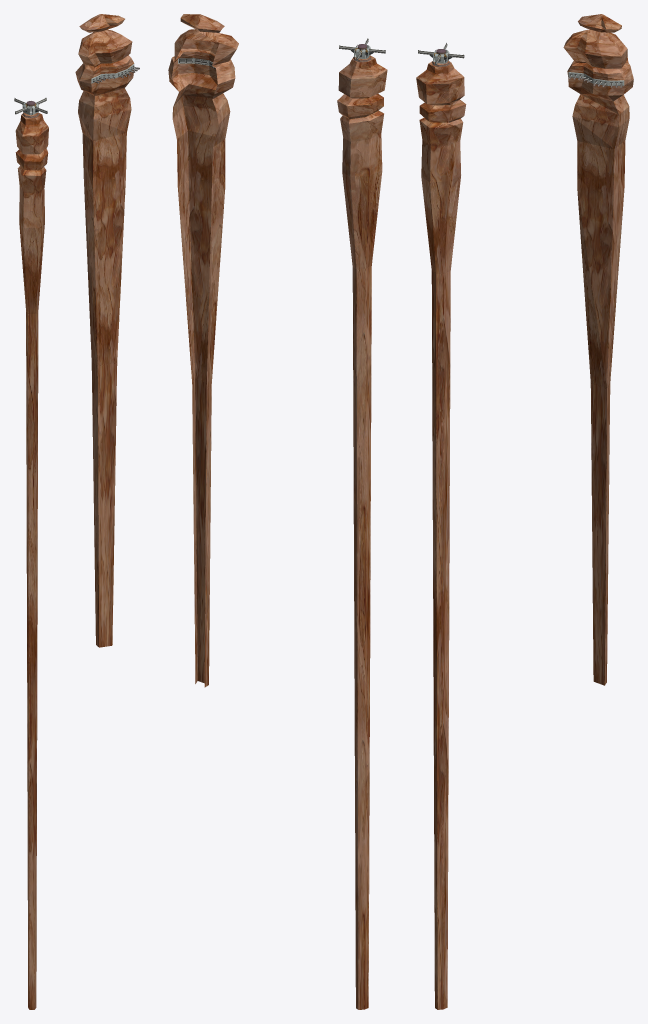
3 views of the same model, side by side, from view 1: azimuth 30°, elevation 25°; view 2: azimuth 150°, elevation 25°; view 3: azimuth 330°, elevation 25° (orthographic). The views are drawn at different scales.
Visible parts, largest first — view 1: Object_2; view 2: Object_2; view 3: Object_2.
Part boxes in pixels (x1=…): Object_2: x1=14, y1=14, x2=139, y2=1009; Object_2: x1=168, y1=14, x2=387, y2=1009; Object_2: x1=416, y1=14, x2=633, y2=1009.
Bounding box in the file's own units: 8821 × 49616 × 5868.
